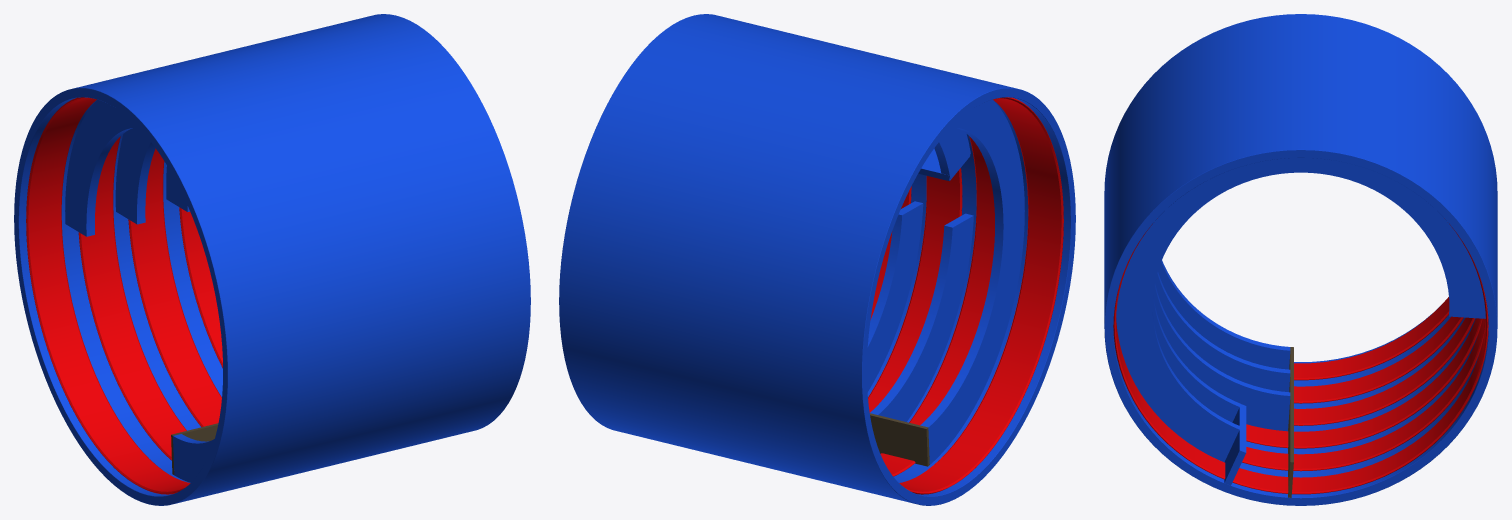
Rendered from new_level_2.fbx.
3 views of the same model, side by side, from view 1: azimuth 30°, elevation 25°; view 2: azimuth 150°, elevation 25°; view 3: azimuth 270°, elevation 25° (orthographic). The views are drawn at different scales.
Visible parts, largest first — view 1: Barrel, Track.003, Track.002, Track.005, Wall.003, Wall, Track; view 2: Barrel, Track.003, Wall.003, Wall, Track.002, Track.005, Wall.004, Plane.003; view 3: Barrel, Wall.002, Track.001, Track.004, Track, Wall.004, Track.005, Wall, Wall.003, Track.002, Track.003, Wall.001 (+2 smaller).
Part boxes in pixels (bbox=[...]): Barrel: bbox=[14, 14, 530, 505]; Track.003: bbox=[26, 97, 190, 494]; Track.002: bbox=[78, 136, 186, 460]; Track.005: bbox=[128, 148, 221, 427]; Wall.003: bbox=[65, 99, 214, 482]; Wall: bbox=[115, 127, 155, 224]; Track: bbox=[179, 207, 222, 368]; Barrel: bbox=[559, 14, 1075, 505]; Track.003: bbox=[899, 97, 1063, 494]; Wall.003: bbox=[920, 99, 1024, 464]; Wall: bbox=[870, 127, 973, 421]; Track.002: bbox=[880, 136, 994, 476]; Track.005: bbox=[868, 168, 962, 412]; Wall.004: bbox=[867, 201, 923, 391]; Plane.003: bbox=[869, 413, 929, 466]; Barrel: bbox=[1104, 14, 1497, 505]; Wall.002: bbox=[1116, 158, 1485, 462]; Track.001: bbox=[1113, 218, 1488, 494]; Track.004: bbox=[1242, 318, 1485, 471]; Track: bbox=[1246, 318, 1482, 448]; Wall.004: bbox=[1153, 283, 1290, 431]; Track.005: bbox=[1294, 317, 1475, 425]; Wall: bbox=[1155, 272, 1290, 391]; Wall.003: bbox=[1158, 260, 1290, 369]; Track.002: bbox=[1294, 316, 1463, 403]; Track.003: bbox=[1294, 297, 1449, 380]; Wall.001: bbox=[1152, 295, 1239, 422].
Size of the model in its own units: 2200 by 1800 by 2200.
